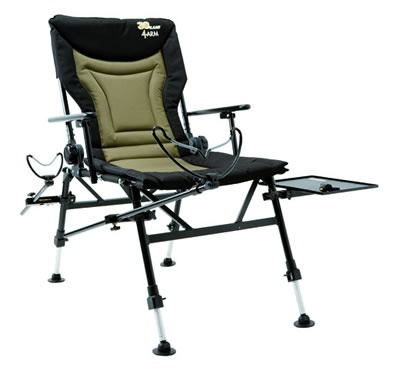chairs: (41, 12, 317, 357)
